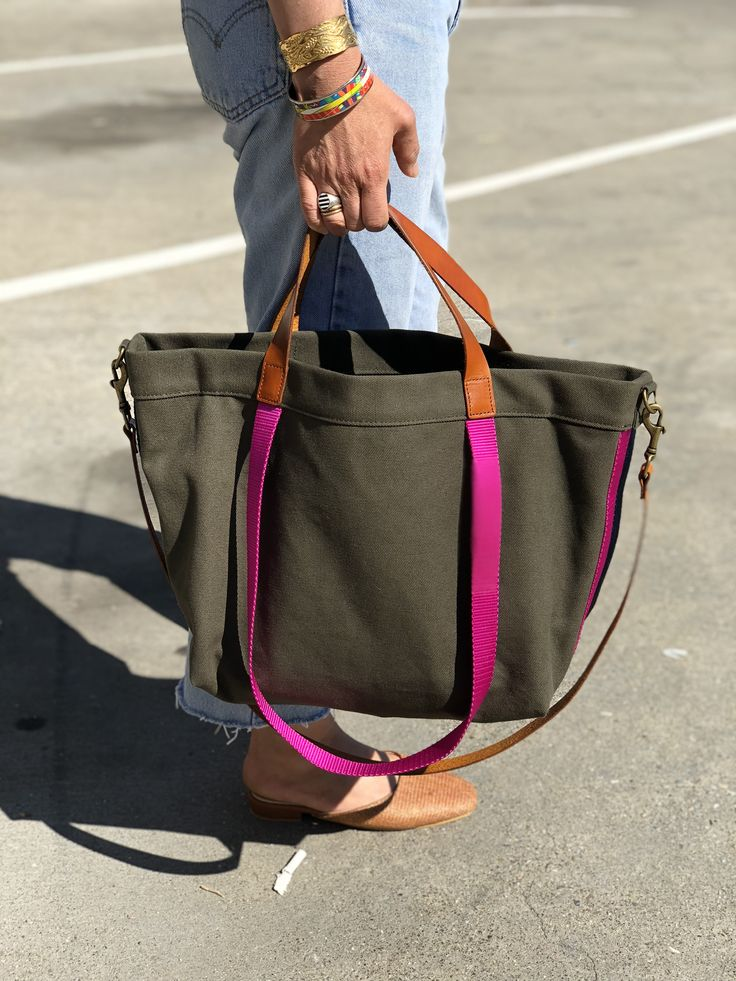nylon: (111, 327, 659, 725)
